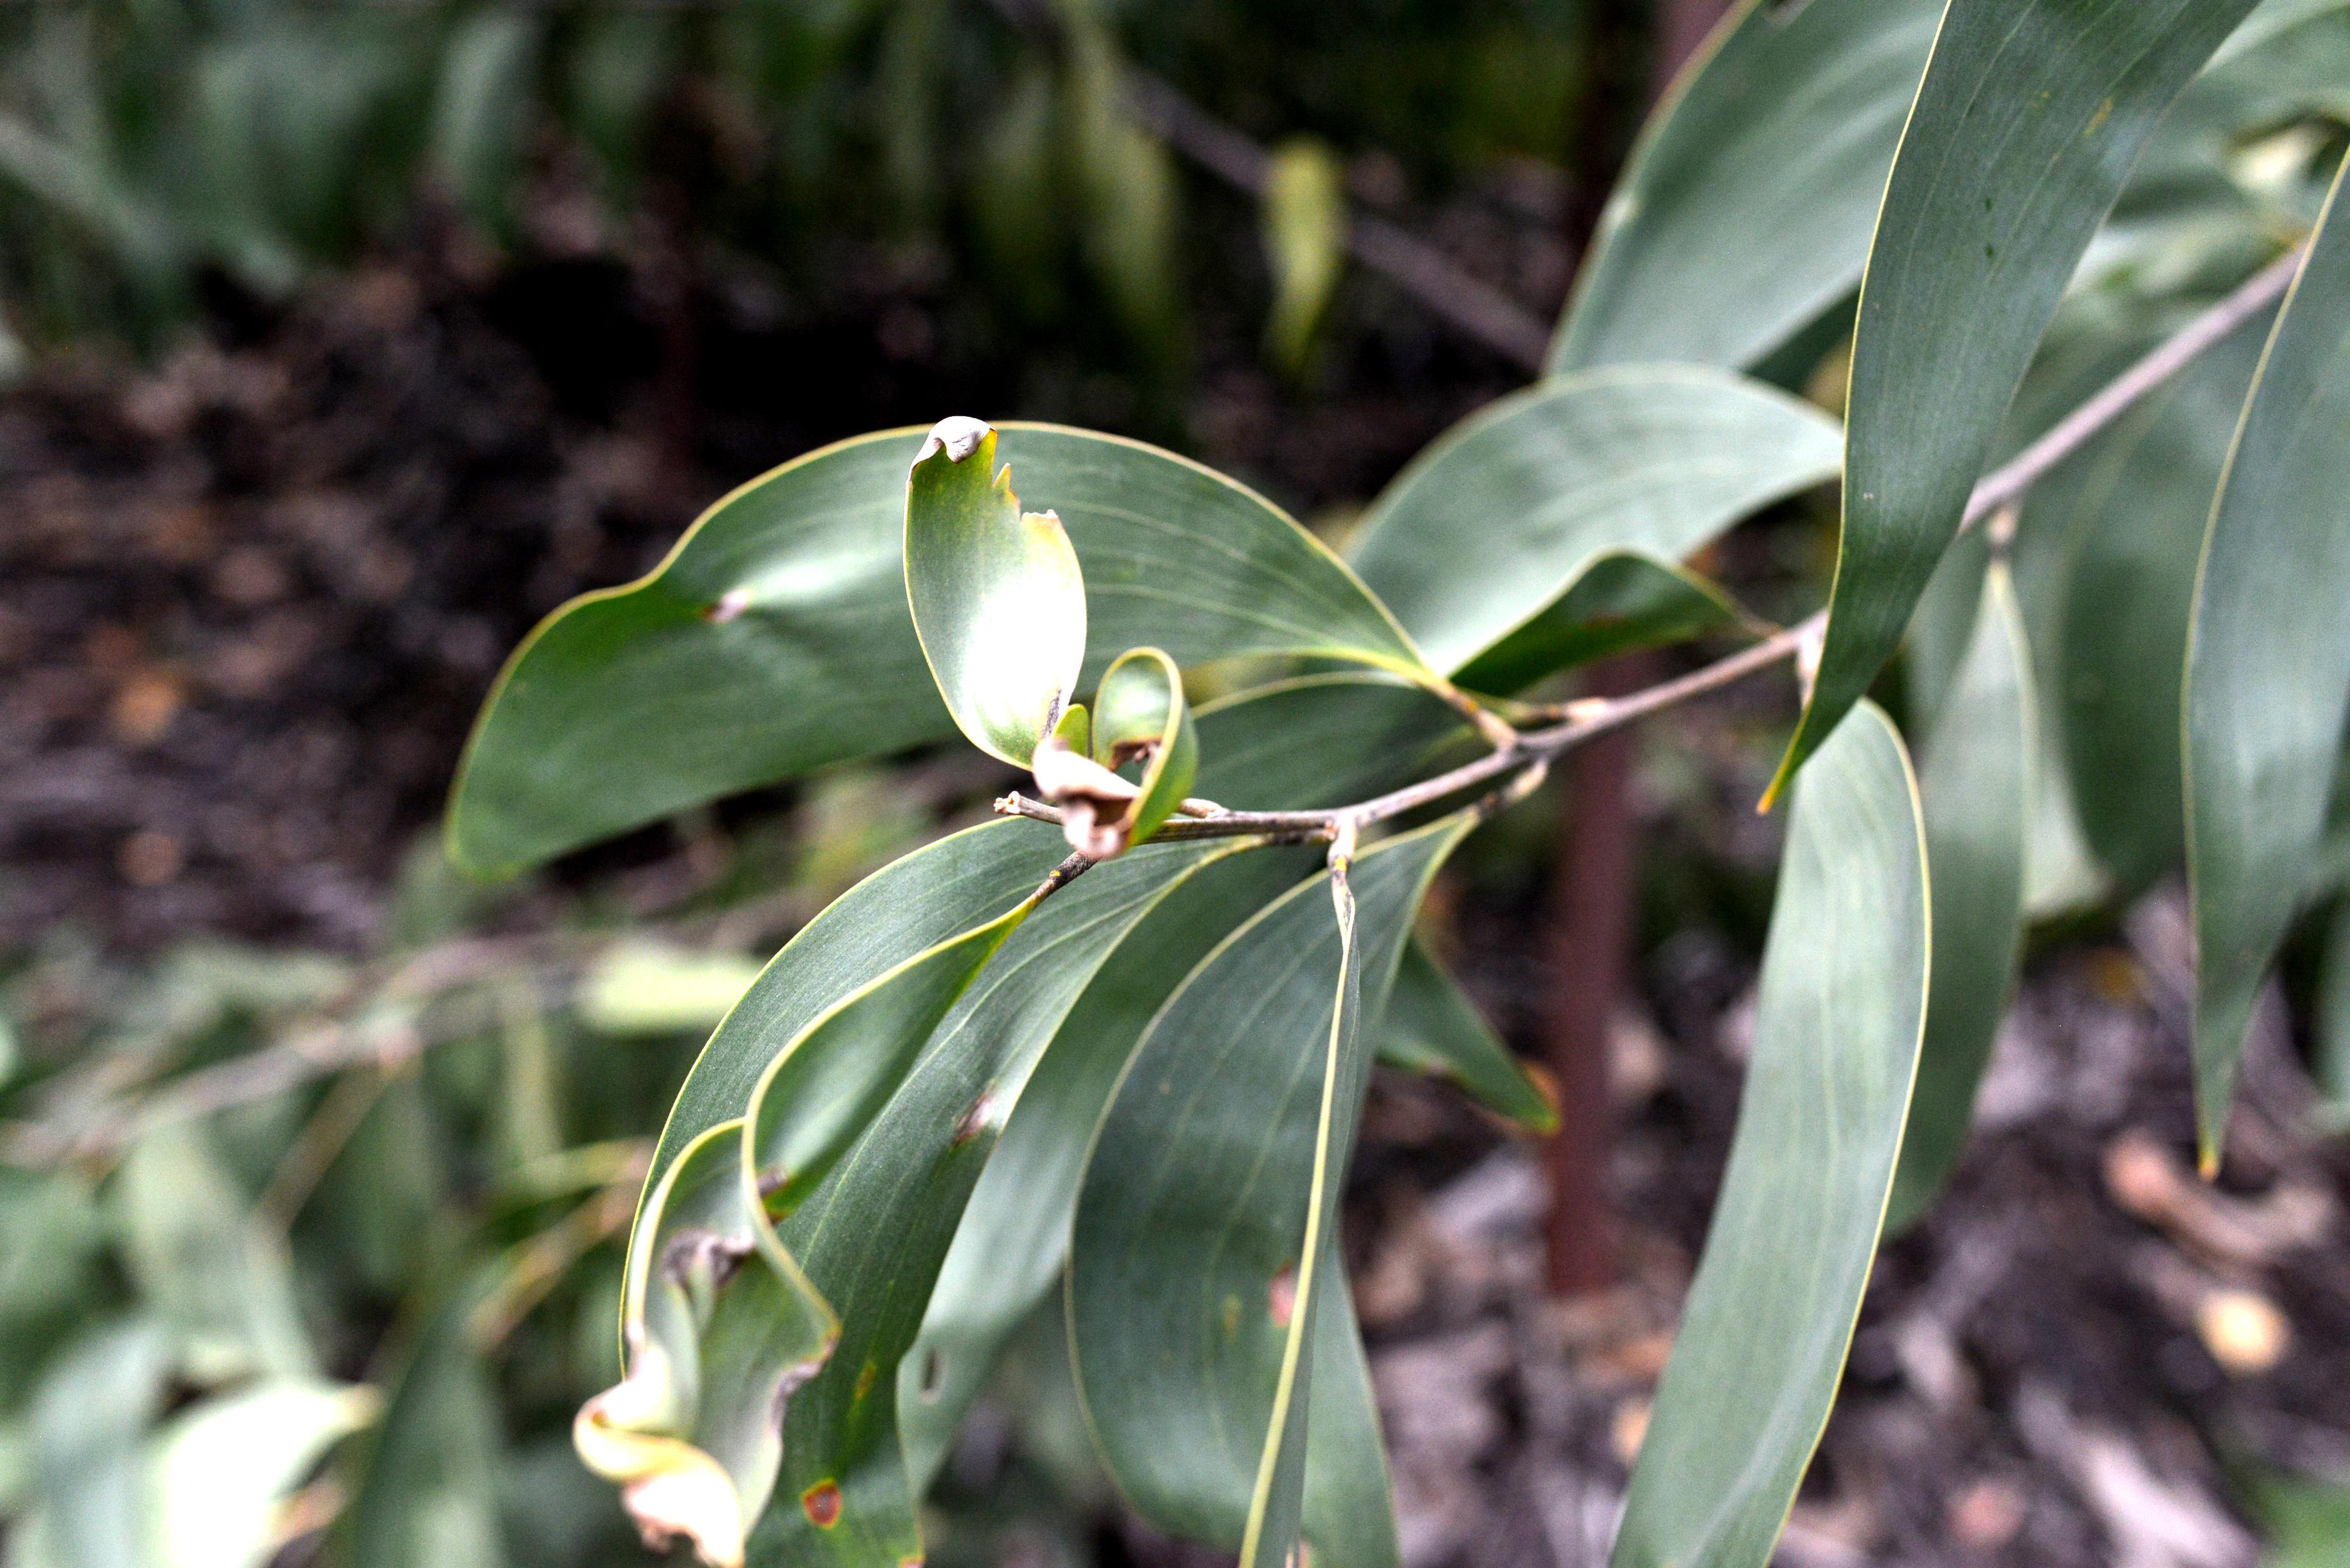Pasalora: (588, 894, 1046, 1568), (441, 402, 852, 854), (873, 397, 1202, 847), (1048, 649, 1220, 859)
